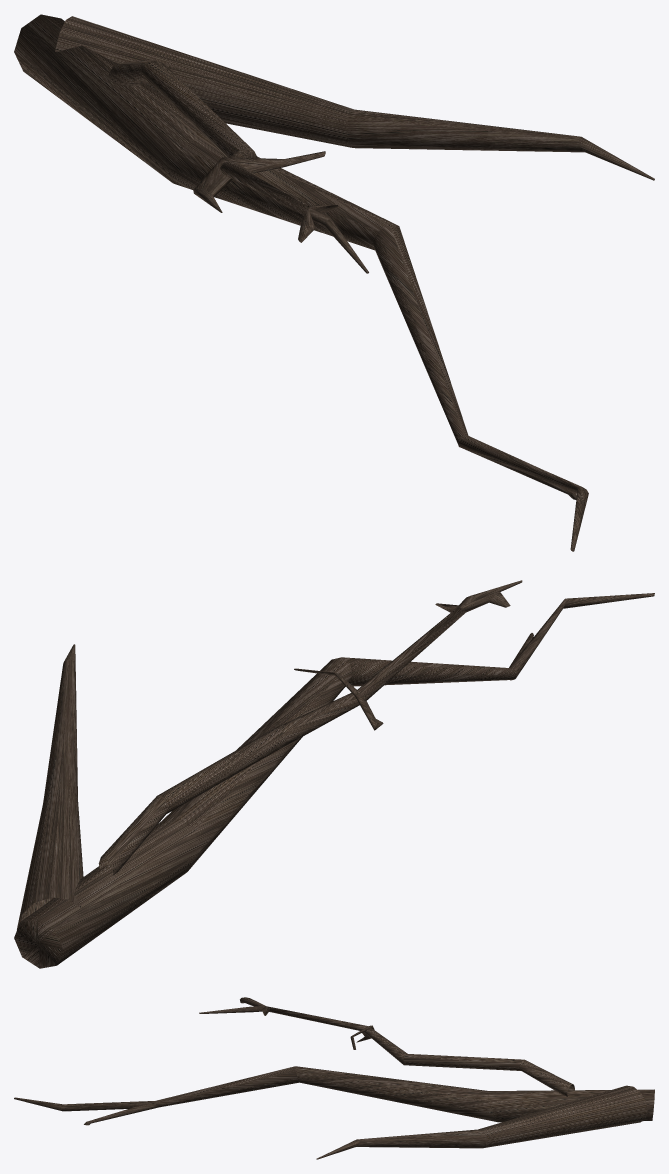
The model's file is moyenne branche.fbx.
3 renders of one model, top to bottom at view 1: azimuth 30°, elevation 25°; view 2: azimuth 150°, elevation 25°; view 3: azimuth 270°, elevation 25°, orthographic. The views are drawn at different scales.
Parts seen in each view (by area): view 1: Moyenne branche; view 2: Moyenne branche; view 3: Moyenne branche.
Part boxes in pixels (x1=…): Moyenne branche: x1=14, y1=14, x2=654, y2=551; Moyenne branche: x1=14, y1=580, x2=654, y2=968; Moyenne branche: x1=14, y1=997, x2=654, y2=1159.
Bounding box in the file's own units: 34.15 × 14.71 × 85.74.
